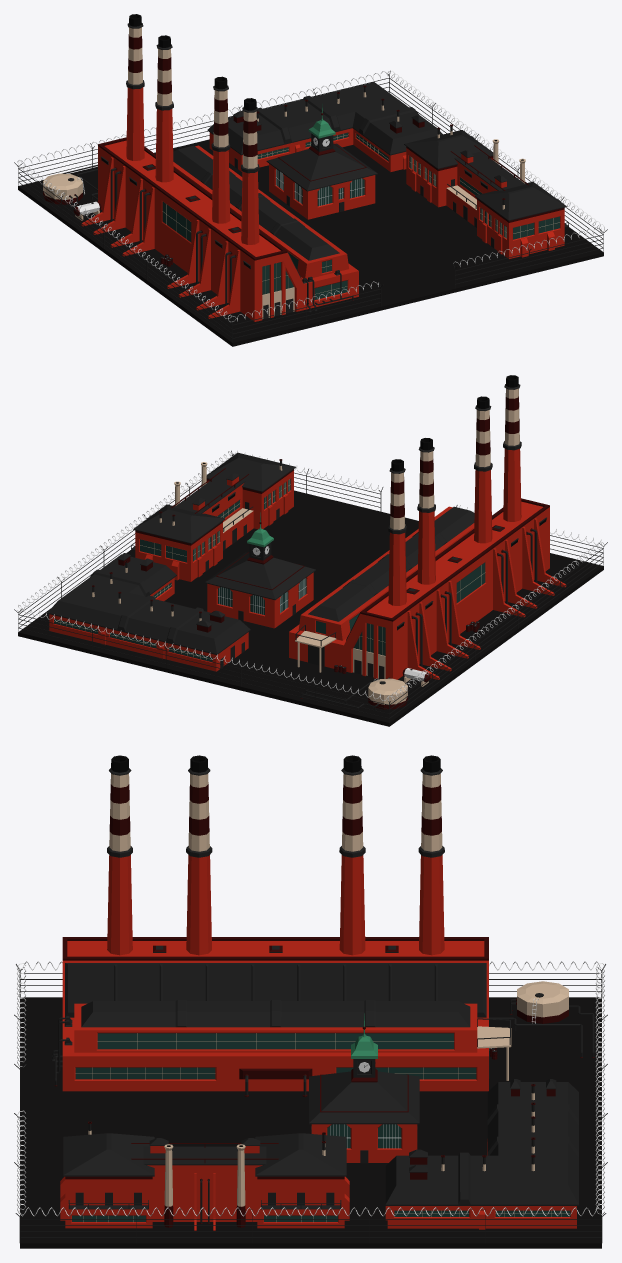
Rendered from FactorySite.FBX.
3 renders of one model, top to bottom at view 1: azimuth 30°, elevation 25°; view 2: azimuth 150°, elevation 25°; view 3: azimuth 270°, elevation 25°, orthographic. The views are drawn at different scales.
Visible parts, largest first — view 1: factoryBuilding_01, FactorySite, factoryBuilding_02, factoryBuilding_03, canteen, fenceGate, fence_01, waterTank, barbwire_01, fence_03, barbwire_02, fence_02 (+2 smaller); view 2: factoryBuilding_01, FactorySite, factoryBuilding_03, factoryBuilding_02, canteen, fence_03, waterTank, fence_01, barbwire_01, barbwire_02, fence_02, fenceGate (+1 smaller); view 3: factoryBuilding_01, FactorySite, factoryBuilding_02, factoryBuilding_03, canteen, waterTank, fence_02, barbwire_02, barbwire_03, barbwireGate.
Part boxes in pixels (x1,y1,x2,y2): factoryBuilding_01: (81, 14, 358, 321); FactorySite: (18, 139, 603, 346); factoryBuilding_02: (404, 124, 568, 258); factoryBuilding_03: (207, 82, 442, 171); canteen: (266, 104, 377, 219); fenceGate: (232, 234, 603, 338); fence_01: (18, 168, 232, 338); waterTank: (43, 164, 97, 205); barbwire_01: (18, 161, 235, 322); fence_03: (19, 78, 389, 181); barbwire_02: (387, 71, 604, 231); fence_02: (389, 78, 603, 247); factoryBuilding_01: (289, 375, 566, 679); FactorySite: (18, 490, 603, 726); factoryBuilding_03: (47, 553, 250, 671); factoryBuilding_02: (131, 452, 295, 581); canteen: (204, 512, 315, 628); fence_03: (18, 614, 389, 718); waterTank: (300, 677, 407, 712); fence_01: (389, 548, 603, 718); barbwire_01: (387, 542, 604, 700); barbwire_02: (18, 451, 235, 609); fence_02: (18, 480, 201, 627); fenceGate: (294, 469, 602, 561); factoryBuilding_01: (51, 755, 511, 1096); FactorySite: (20, 997, 601, 1248); factoryBuilding_02: (60, 1121, 349, 1230); factoryBuilding_03: (385, 1079, 578, 1229); canteen: (309, 1013, 419, 1163); waterTank: (489, 981, 594, 1058); fence_02: (20, 1209, 601, 1242); barbwire_02: (18, 1207, 600, 1216); barbwire_03: (595, 963, 604, 1214); barbwireGate: (17, 963, 26, 1214).
Size of the model in its own units: 1020 by 1020 by 530.
